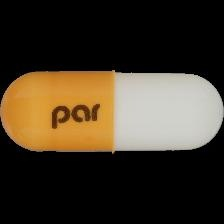49884-277: (0, 0, 224, 224)
